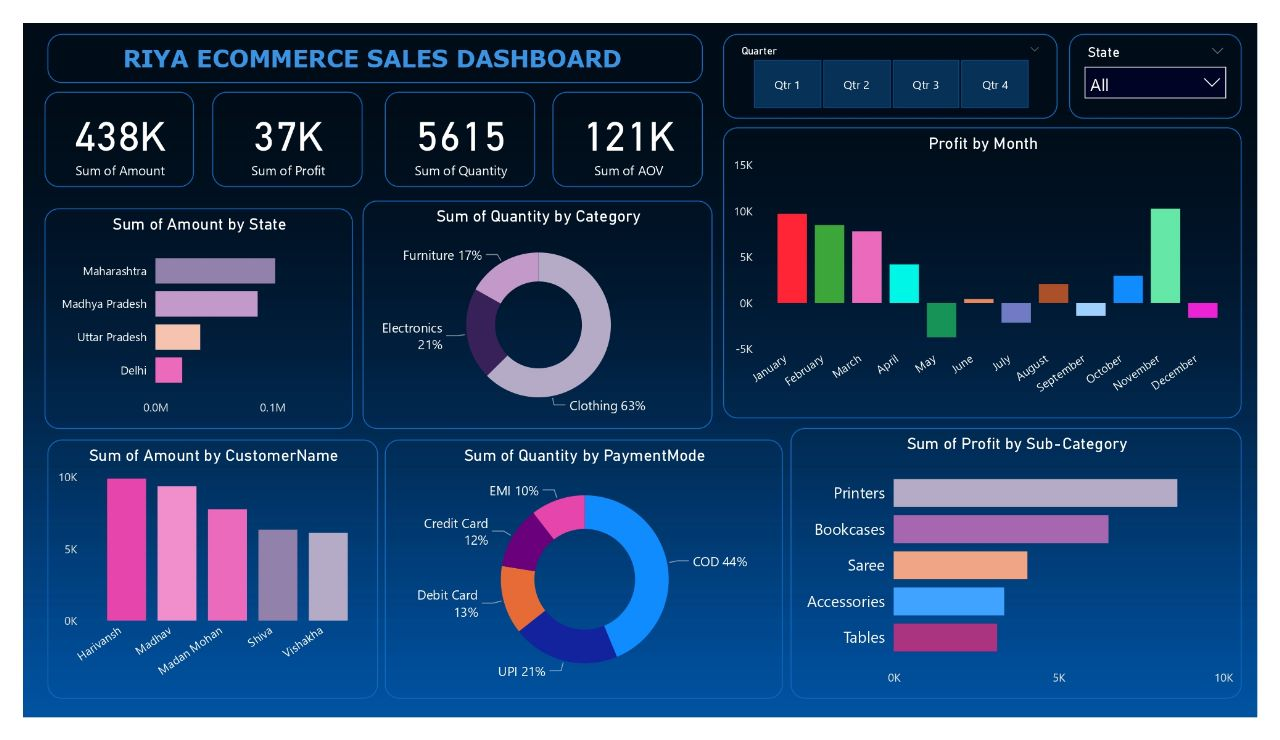

Layout of this report page (visuals, bound fields, positions):
{"tool":"powerbi","page":{"name":"Page 1","canvas":[1280,720],"ordinal":0},"visuals":[{"type":"columnChart","title":"Profit by Month","fields":{"Category":["Orders.Order Date.Variation.Date Hierarchy.Month"],"Y":["Details.Profit"]},"box":[725.9,108.4,537.9,301.9],"z":0},{"type":"textbox","box":[24.7,11,680.6,50.8],"z":1000},{"type":"barChart","fields":{"Category":["Details.Sub-Category"],"Y":["Details.Profit"]},"box":[795.9,419.9,467.9,281.3],"z":2000},{"type":"donutChart","fields":{"Category":["Details.Category"],"Y":["Details.Quantity"]},"box":[352.3,184.5,363,236.8],"z":3000},{"type":"donutChart","fields":{"Category":["Details.PaymentMode"],"Y":["Details.Quantity"]},"box":[374.6,432.2,413,269],"z":4000},{"type":"card","fields":{"Values":["Details.Amount"]},"box":[22,71.4,155.1,98.8],"z":5000},{"type":"card","fields":{"Values":["Details.Quantity"]},"box":[374.9,71.4,155.9,98.8],"z":6000},{"type":"card","fields":{"Values":["Details.Profit"]},"box":[196.4,71.4,155.9,98.8],"z":7000},{"type":"card","fields":{"Values":["Details.AOV"]},"box":[548.6,71.4,155.9,98.8],"z":8000},{"type":"barChart","fields":{"Y":["Details.Amount"],"Category":["Orders.State"]},"box":[22,192.1,319.7,229.2],"z":9000},{"type":"columnChart","fields":{"Category":["Orders.CustomerName"],"Y":["Details.Amount"]},"box":[24.7,432.2,343.1,269],"z":10000},{"type":"slicer","fields":{"Values":["Orders.Order Date.Variation.Date Hierarchy.Quarter"]},"box":[725.9,11,347.2,87.8],"z":11000},{"type":"slicer","fields":{"Values":["Orders.State"]},"box":[1085.4,11,178.4,87.8],"z":12000}]}

Visuals, with their boxes on the page's 1280x720 design canvas (x1, y1, x2, y2). These are canvas units, not pixel positions in the 1280x740 screenshot, which may show the page scaled, cropped or inside an application window:
"Profit by Month" columnChart: box=[726, 108, 1264, 410]
textbox: box=[25, 11, 705, 62]
barChart - Details.Sub-Category x Details.Profit: box=[796, 420, 1264, 701]
donutChart - Details.Category x Details.Quantity: box=[352, 184, 715, 421]
donutChart - Details.PaymentMode x Details.Quantity: box=[375, 432, 788, 701]
card - Details.Amount: box=[22, 71, 177, 170]
card - Details.Quantity: box=[375, 71, 531, 170]
card - Details.Profit: box=[196, 71, 352, 170]
card - Details.AOV: box=[549, 71, 704, 170]
barChart - Details.Amount x Orders.State: box=[22, 192, 342, 421]
columnChart - Orders.CustomerName x Details.Amount: box=[25, 432, 368, 701]
slicer - Orders.Order Date.Variation.Date Hierarchy.Quarter: box=[726, 11, 1073, 99]
slicer - Orders.State: box=[1085, 11, 1264, 99]
